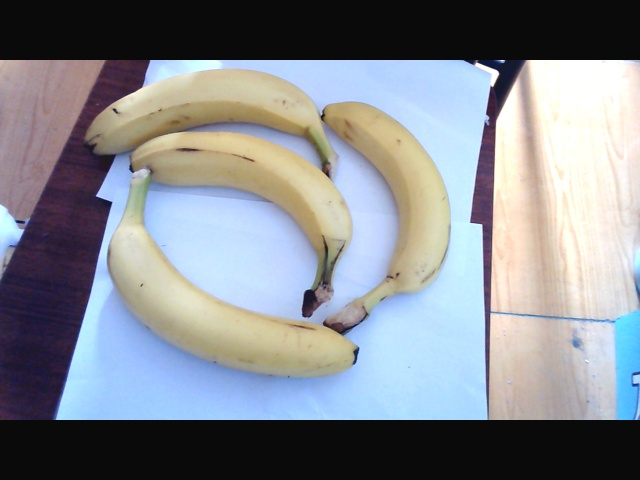banana: (99, 68, 345, 257), (97, 223, 361, 373), (336, 96, 458, 313)
